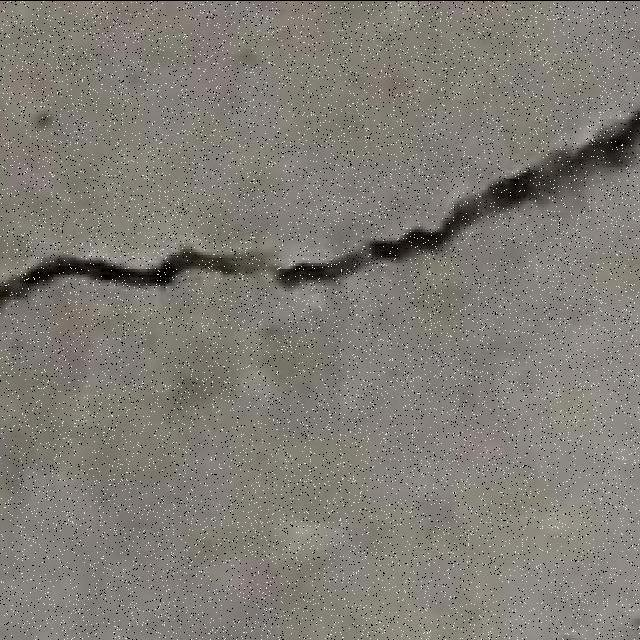crack: (1, 105, 639, 306), (151, 246, 284, 283)
dampness: (1, 192, 638, 640)
